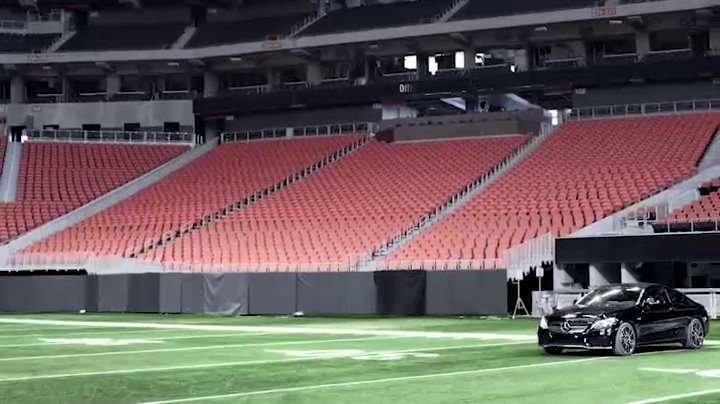amg: (541, 278, 711, 357)
